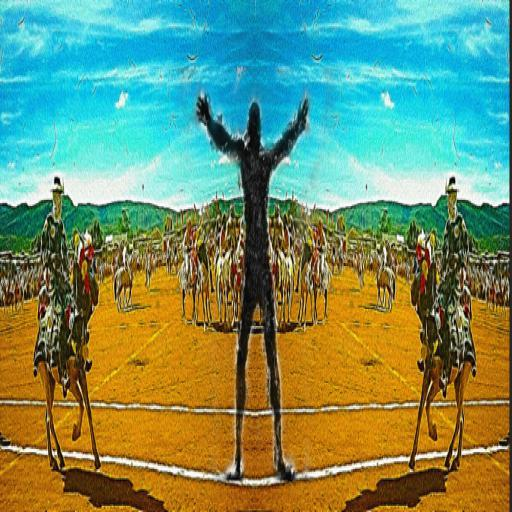Horse: (178, 224, 332, 334), (33, 227, 100, 479), (407, 230, 472, 471)
